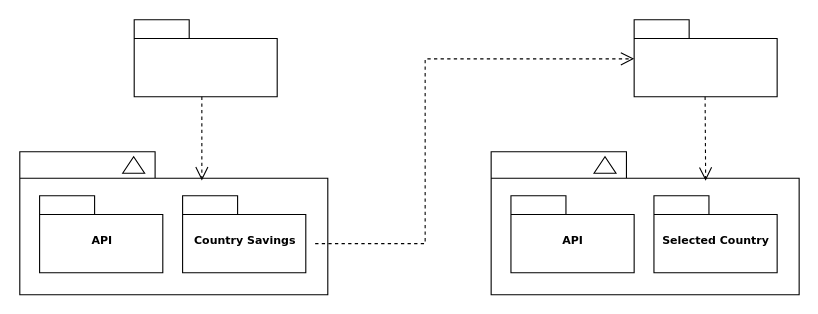
The diagram is 818 pixels wide and 314 high, and some of its shapes have lost their labels. Here are the shapes that lost their labels. From the top down, the centre of each, then its label:
pixel 205 58: Main Activity
pixel 705 58: Detail Activity
